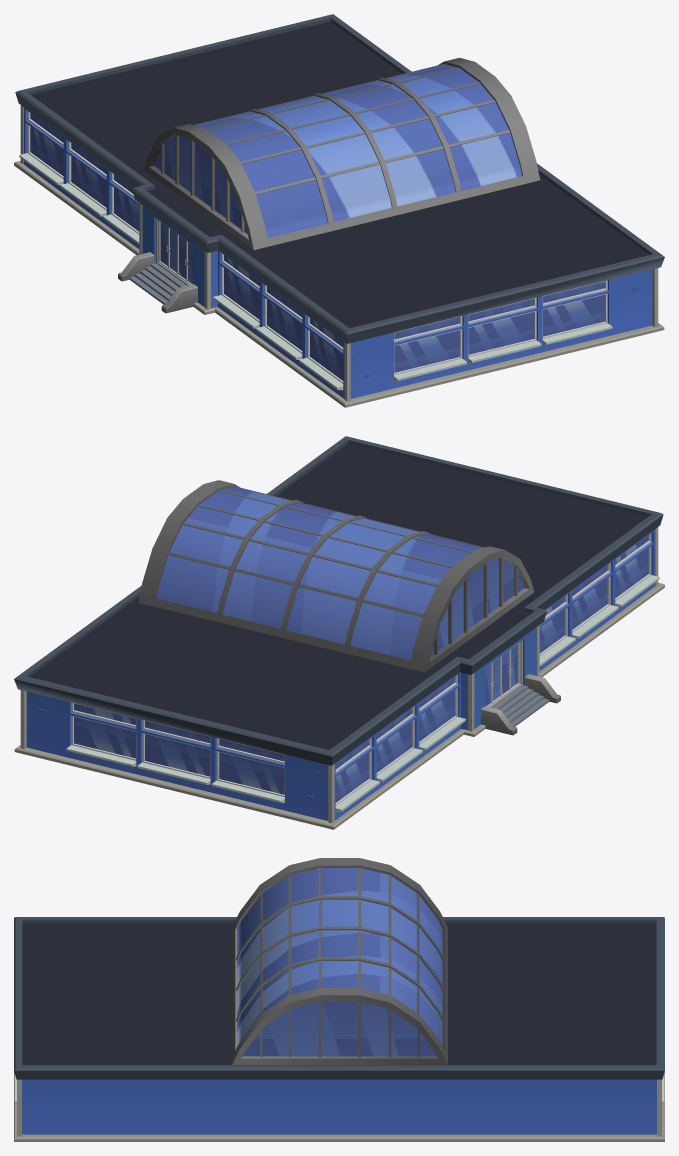
Rendered from Building_16_2_H.fbx.
The picture shows the model from 3 angles, top to bottom: view 1: azimuth 30°, elevation 25°; view 2: azimuth 150°, elevation 25°; view 3: azimuth 270°, elevation 25°; orthographic projection.
Parts seen in each view (by area): view 1: Building_16_2_H; view 2: Building_16_2_H; view 3: Building_16_2_H.
Boxes of the visible parts, x1,y1,x2,y2 form: Building_16_2_H: (14, 14, 664, 407); Building_16_2_H: (14, 436, 664, 829); Building_16_2_H: (14, 858, 664, 1141).
Bounding box in the file's own units: 1888 × 718 × 3026.
